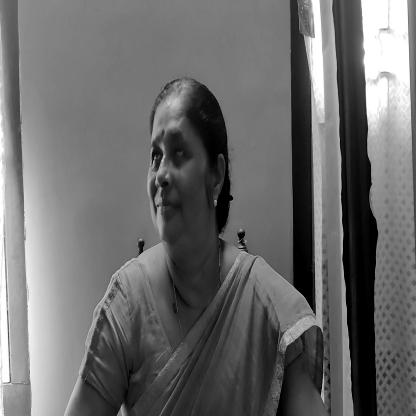Distracted: (145, 62, 225, 247)
